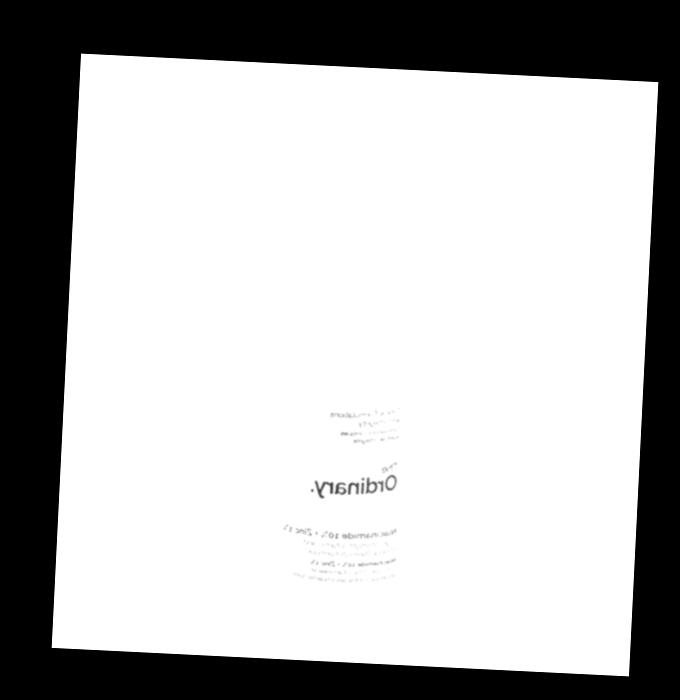cosmetic: (243, 111, 435, 632)
